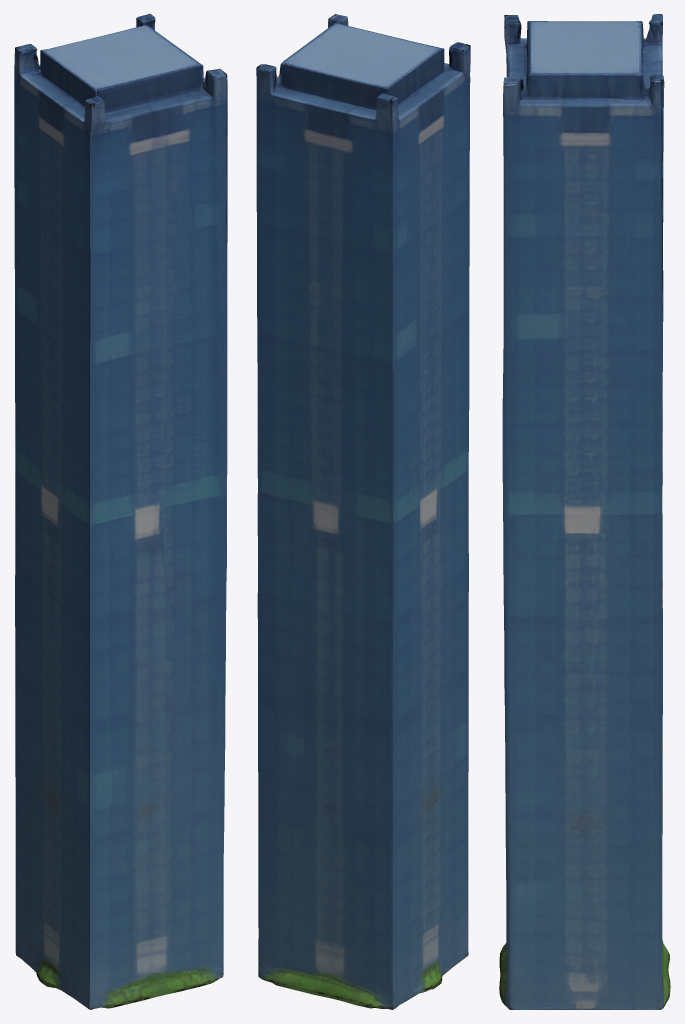
The model's file is CaoTang.glb.
3 renders of one model, left to right at view 1: azimuth 30°, elevation 25°; view 2: azimuth 150°, elevation 25°; view 3: azimuth 270°, elevation 25°, orthographic. The views are drawn at different scales.
Visible parts, largest first — view 1: world; view 2: world; view 3: world.
Boxes of the visible parts, left/top/right/bottom form: world: left=14, top=14, right=227, bottom=1009; world: left=256, top=14, right=470, bottom=1009; world: left=499, top=14, right=670, bottom=1009.
Size of the model in its own units: 0.1674 by 1 by 0.167.
Materials: 1 (1 with a texture image).
